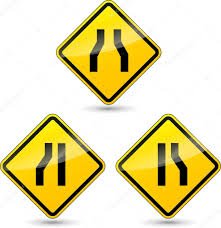Narrow_road: (115, 112, 221, 222), (2, 112, 108, 221), (55, 1, 165, 106)
